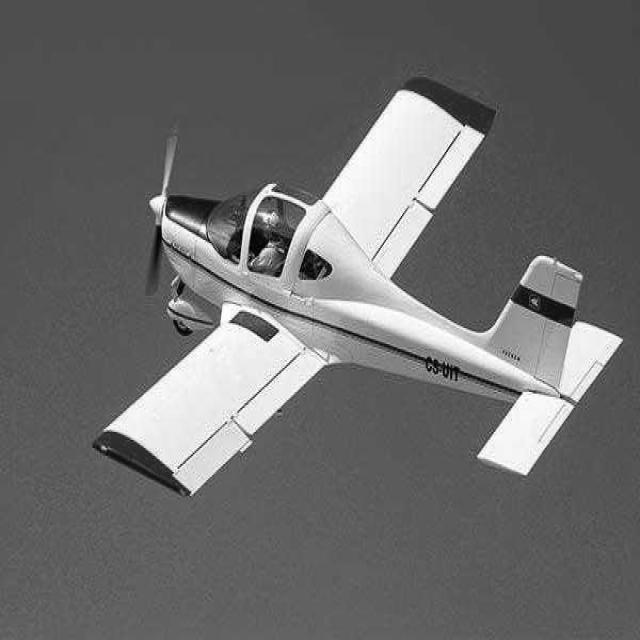Aircraft: (85, 54, 631, 506)
